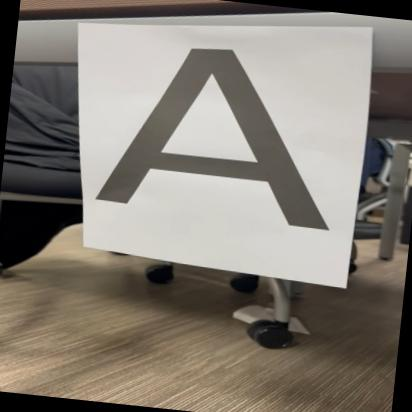seat: (88, 32, 362, 243)
